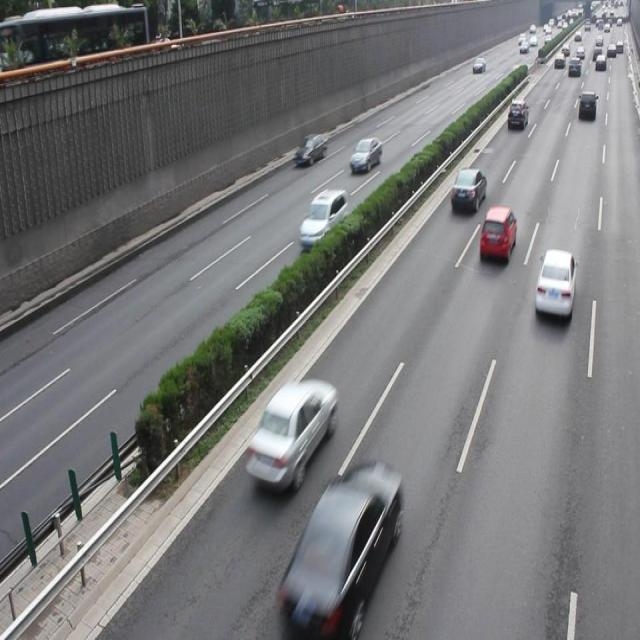car: (274, 458, 401, 625), (243, 376, 336, 490), (532, 249, 575, 320), (298, 187, 347, 244), (477, 205, 516, 262), (449, 167, 486, 213), (294, 132, 327, 168), (348, 137, 381, 171)
